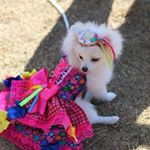puppy: (62, 19, 126, 84)
